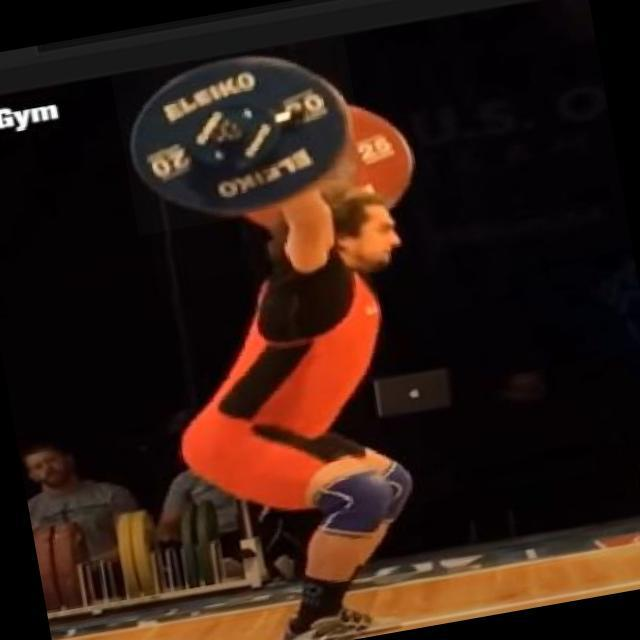barbell: (111, 36, 372, 236)
